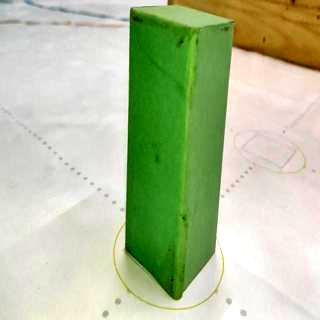greenbox: (126, 5, 232, 302)
